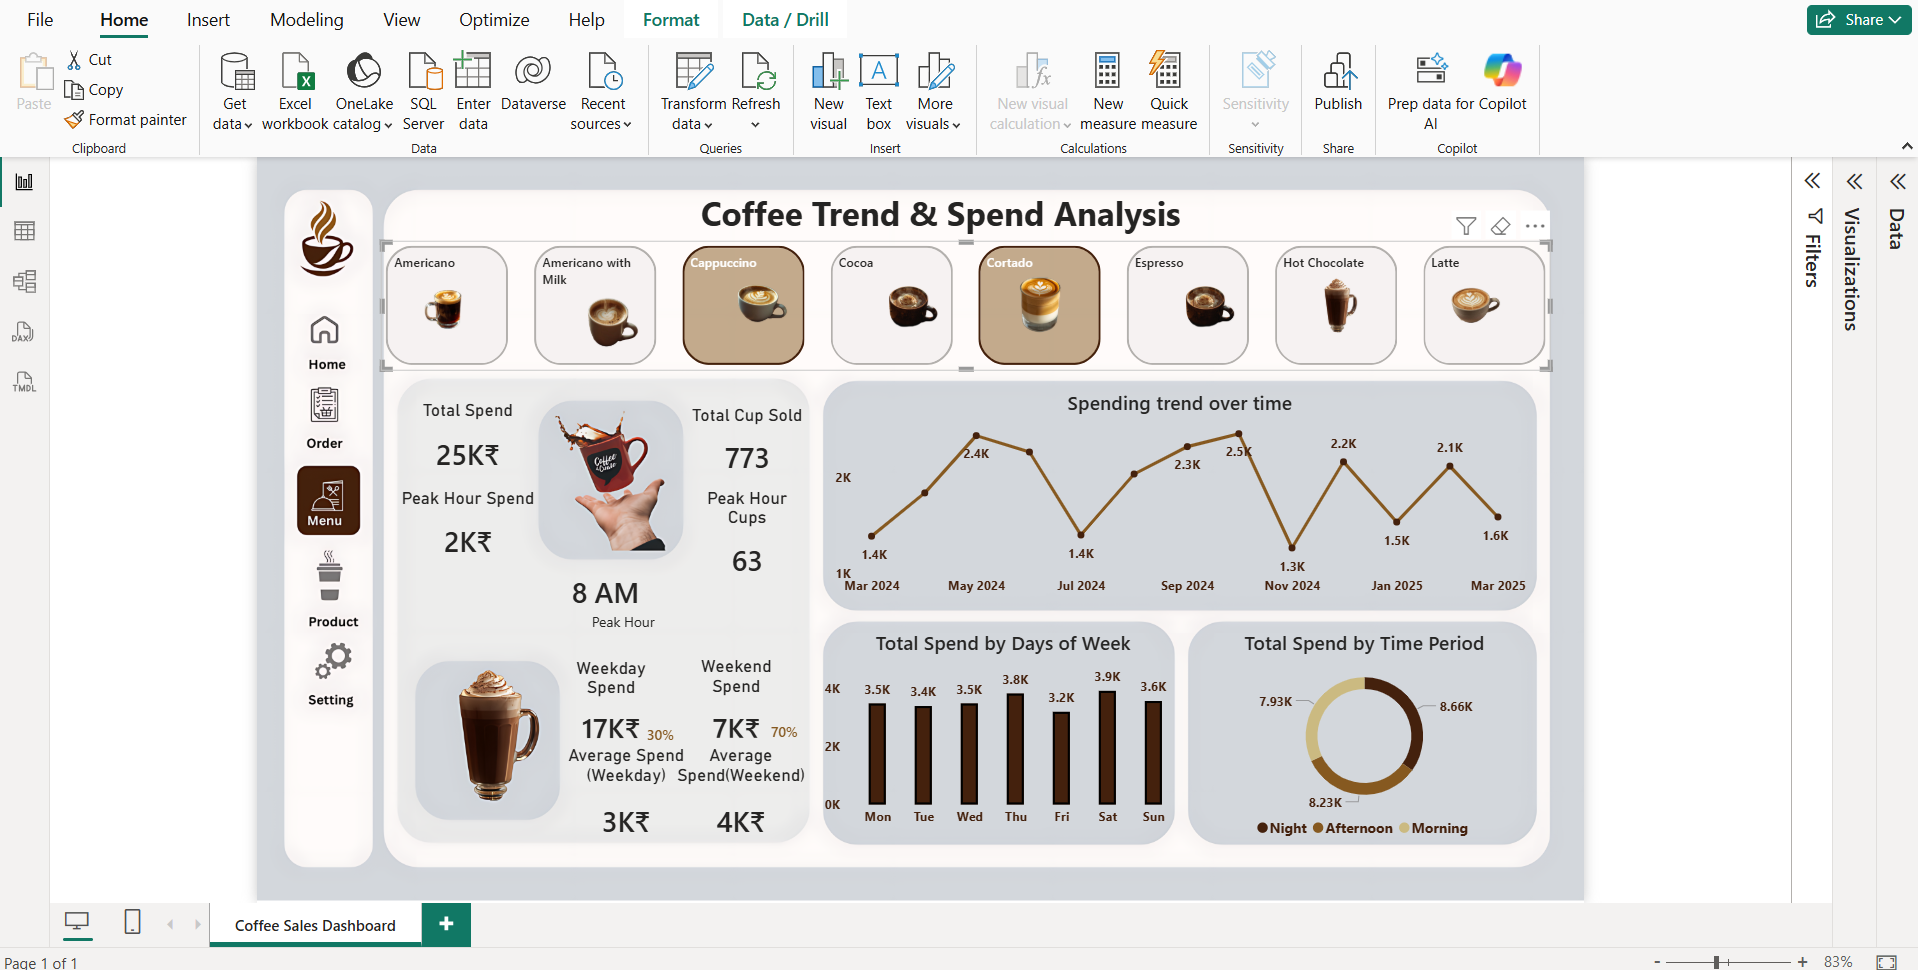

The dashboard page shown, as its layout file describes it:
{"tool":"powerbi","page":{"name":"Coffee Sales Dashboard","canvas":[1280,720],"ordinal":0},"visuals":[{"type":"textbox","box":[422.9,27.4,485.7,53.1],"z":0},{"type":"cardVisual","title":"Total Spend","fields":{"Data":["coffee_data.Total_Spen"]},"box":[132.7,234.4,141.6,84],"z":1000},{"type":"cardVisual","title":"Total Cup Sold","fields":{"Data":["coffee_data.Total_Cup_Sold"]},"box":[413.2,238.9,121.2,79.6],"z":2000},{"type":"cardVisual","title":"Peak Hour Spend","fields":{"Data":["coffee_data.Peak_Hours"]},"box":[134.5,318.5,139.8,84],"z":3000},{"type":"cardVisual","title":"Peak Hour Cups","fields":{"Data":["coffee_data.Peak_Hour_Cup"]},"box":[413.2,318.5,121.2,99.1],"z":4000},{"type":"cardVisual","fields":{"Data":["coffee_data.Peak_Hour_Label"]},"box":[269,371.6,134.9,92],"z":5000,"group":"g1"},{"type":"cardVisual","title":"Weekday Spend","fields":{"Data":["coffee_data.WeekDay_Spend"]},"box":[280.5,482.2,123.9,95.5],"z":5000},{"type":"cardVisual","title":"Weekend Spend","fields":{"Data":["coffee_data.WeekEnd_Spend"]},"box":[399,481.3,126.5,96.4],"z":6000},{"type":"cardVisual","fields":{"Data":["coffee_data.% Weekday_Spend"]},"box":[467.1,529.1,84,48.7],"z":7000},{"type":"cardVisual","fields":{"Data":["coffee_data.% WeekEnd_Spend"]},"box":[345.9,529.9,86.7,53.1],"z":8000},{"type":"cardVisual","title":"Average Spend (Weekday)","fields":{"Data":["coffee_data.Weekday_Avg_Spend"]},"box":[289.3,567.1,133.6,107.1],"z":9000},{"type":"cardVisual","title":"Average Spend(Weekend)","fields":{"Data":["coffee_data.WeekEnd_Avg_Spend"]},"box":[399,567.1,135.4,107.1],"z":10000},{"type":"group","id":"g1","title":"Group 1","box":[269,371.6,162.9,91.7],"z":11000},{"type":"textbox","box":[276.7,434.1,154.2,29],"z":11001,"group":"g1"},{"type":"lineChart","title":"Spending trend over time","fields":{"Y":["Sum(coffee_data.money(Rs))"],"Category":["coffee_data.Date.Variation.Date Hierarchy.Year","coffee_data.Date.Variation.Date Hierarchy.Quarter","coffee_data.Date.Variation.Date Hierarchy.Month"]},"box":[551.2,224.7,678.6,207.9],"z":12000},{"type":"clusteredColumnChart","title":"Total Spend by Days of Week","fields":{"Y":["Sum(coffee_data.money(Rs))"],"Category":["coffee_data.Weekday"]},"box":[542.3,456.5,354.8,199.1],"z":13000},{"type":"donutChart","title":"Total Spend by Time Period","fields":{"Category":["coffee_data.Time_of_Day"],"Y":["Sum(coffee_data.money(Rs))"]},"box":[908.6,456.5,321.2,210.6],"z":14000},{"type":"advancedSlicerVisual","fields":{"Values":["coffee_data.coffee_name"]},"box":[119.4,80.5,1129.8,125.6],"z":15000}]}

Visuals, with their boxes on the page's 1280x720 design canvas (x1, y1, x2, y2). These are canvas units, not pixel positions in the 1918x970 screenshot, which may show the page scaled, cropped or inside an application window:
textbox: (423, 27, 909, 80)
"Total Spend" cardVisual: (133, 234, 274, 318)
"Total Cup Sold" cardVisual: (413, 239, 534, 318)
"Peak Hour Spend" cardVisual: (134, 318, 274, 402)
"Peak Hour Cups" cardVisual: (413, 318, 534, 418)
cardVisual - coffee_data.Peak_Hour_Label: (269, 372, 404, 464)
"Weekday Spend" cardVisual: (280, 482, 404, 578)
"Weekend Spend" cardVisual: (399, 481, 526, 578)
cardVisual - coffee_data.% Weekday_Spend: (467, 529, 551, 578)
cardVisual - coffee_data.% WeekEnd_Spend: (346, 530, 433, 583)
"Average Spend (Weekday)" cardVisual: (289, 567, 423, 674)
"Average Spend(Weekend)" cardVisual: (399, 567, 534, 674)
"Group 1" group: (269, 372, 432, 463)
textbox: (277, 434, 431, 463)
"Spending trend over time" lineChart: (551, 225, 1230, 433)
"Total Spend by Days of Week" clusteredColumnChart: (542, 456, 897, 656)
"Total Spend by Time Period" donutChart: (909, 456, 1230, 667)
advancedSlicerVisual - coffee_data.coffee_name: (119, 80, 1249, 206)
